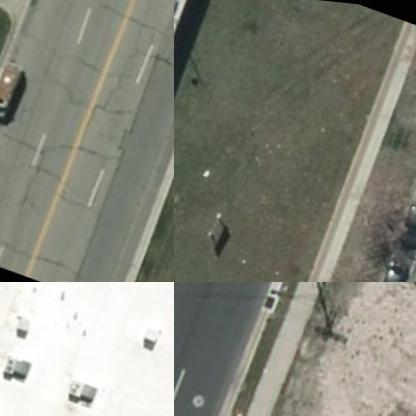car: (0, 59, 29, 126), (384, 245, 415, 281), (402, 194, 415, 251)
